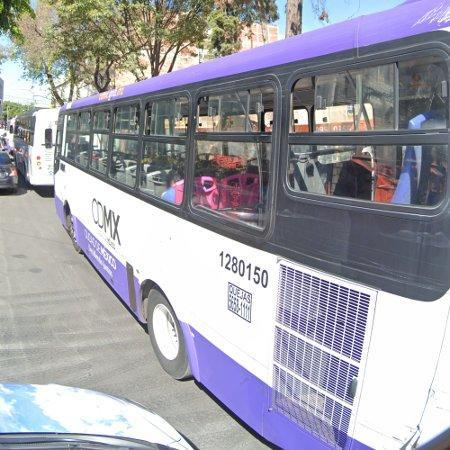buses: (52, 0, 450, 450)
